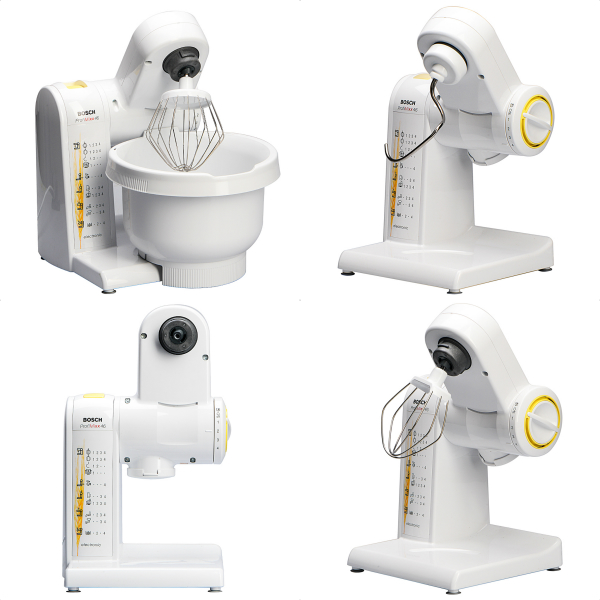Bosch: (398, 96, 423, 112), (71, 105, 101, 117), (407, 395, 433, 408), (78, 415, 107, 425)
